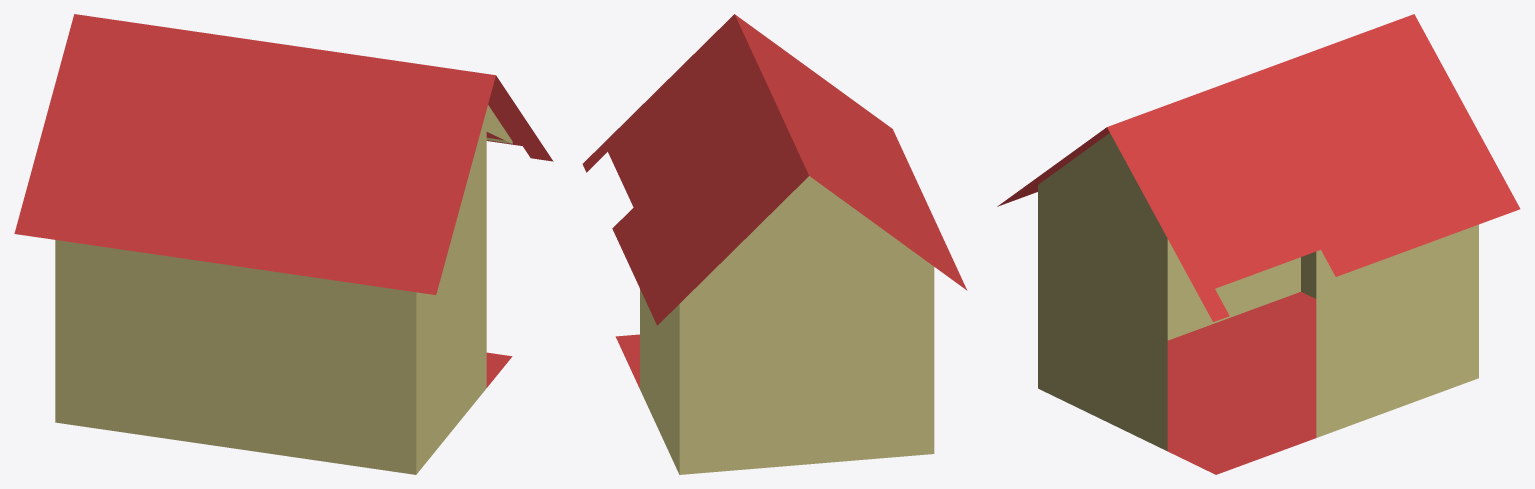
3 renders of one model, left to right at view 1: azimuth 30°, elevation 25°; view 2: azimuth 150°, elevation 25°; view 3: azimuth 270°, elevation 25°, orthographic. The views are drawn at different scales.
Size of the model in its own units: 17.56 by 17.81 by 11.77.
